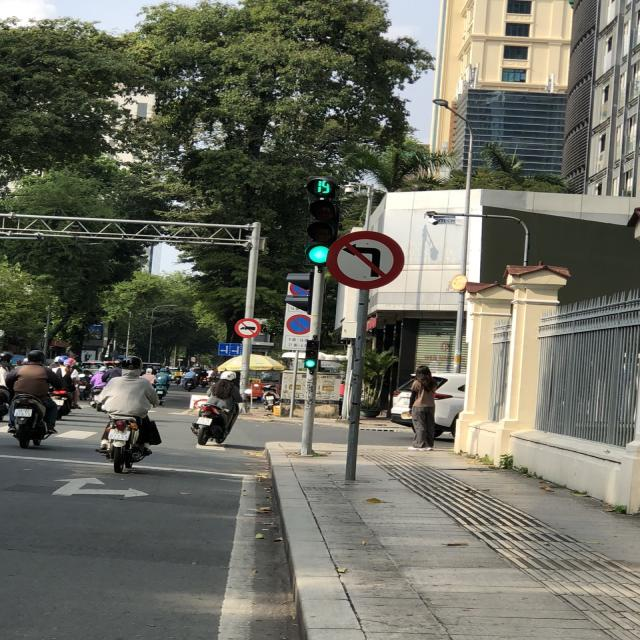Bien bao cam re trai: (318, 220, 415, 292)
Bien bao cam xe so-mi ro-mooc: (233, 316, 263, 338)
